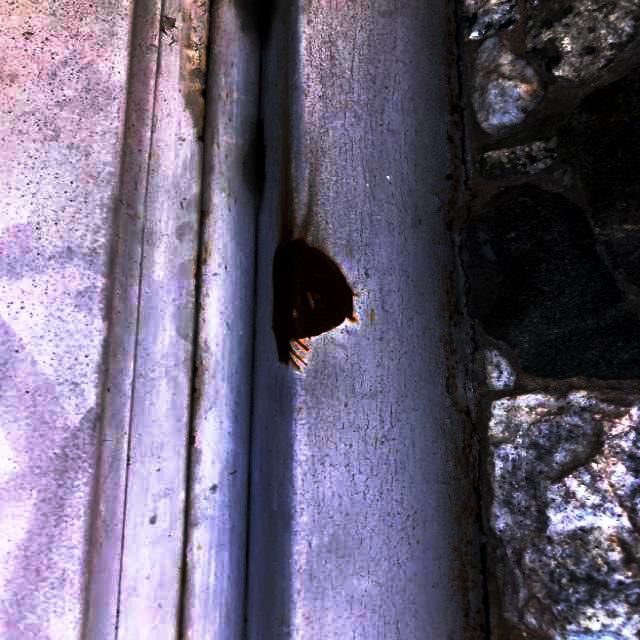Corrosion: (435, 0, 486, 638), (265, 236, 362, 373)
